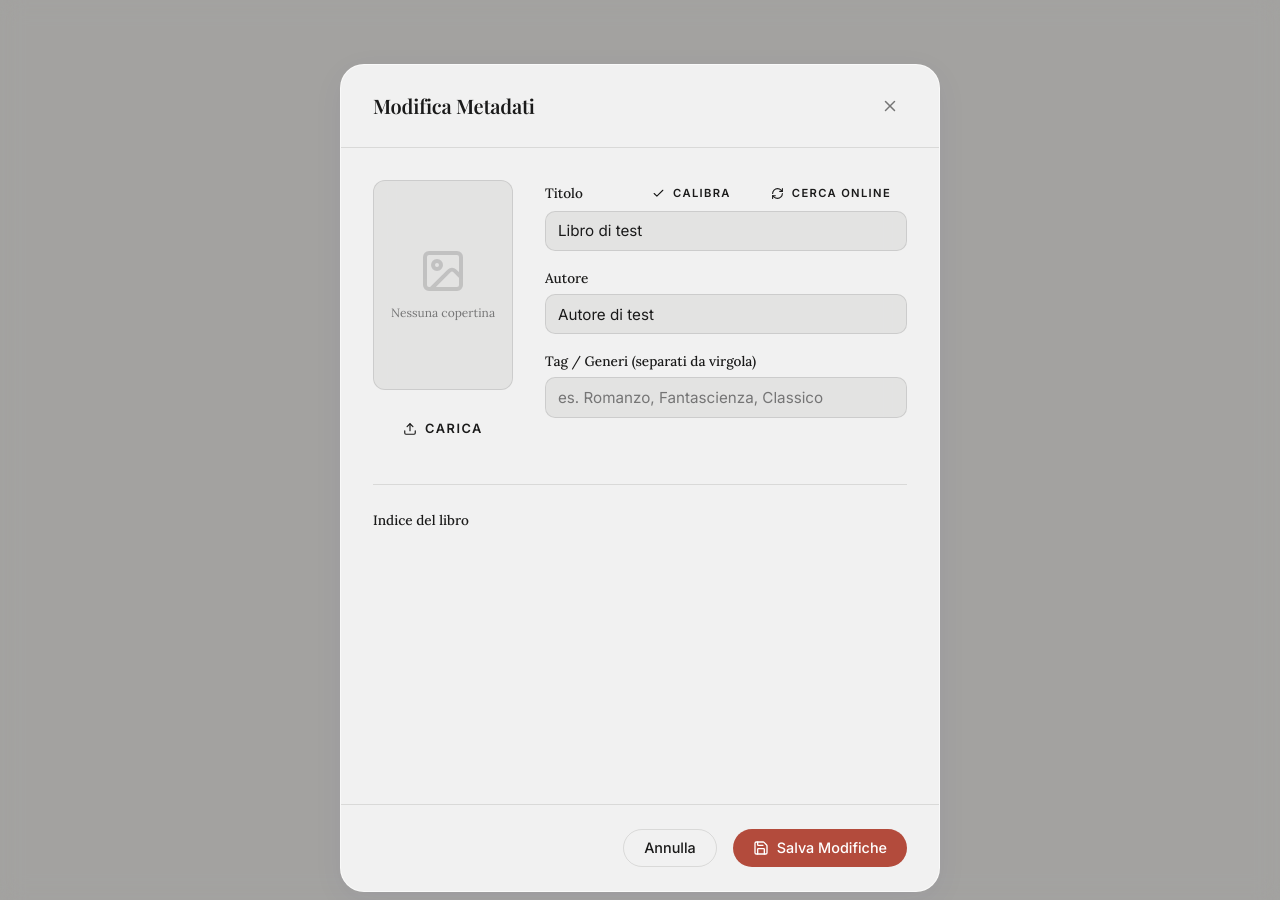
it: EditMetadataModal TOC tools › applies automatic calibration results to metadata and toc preview
The width and height of the screenshot is (1280, 900).
Step 1. Click the button "Calibra" → (692, 193), box [636,180,747,207]
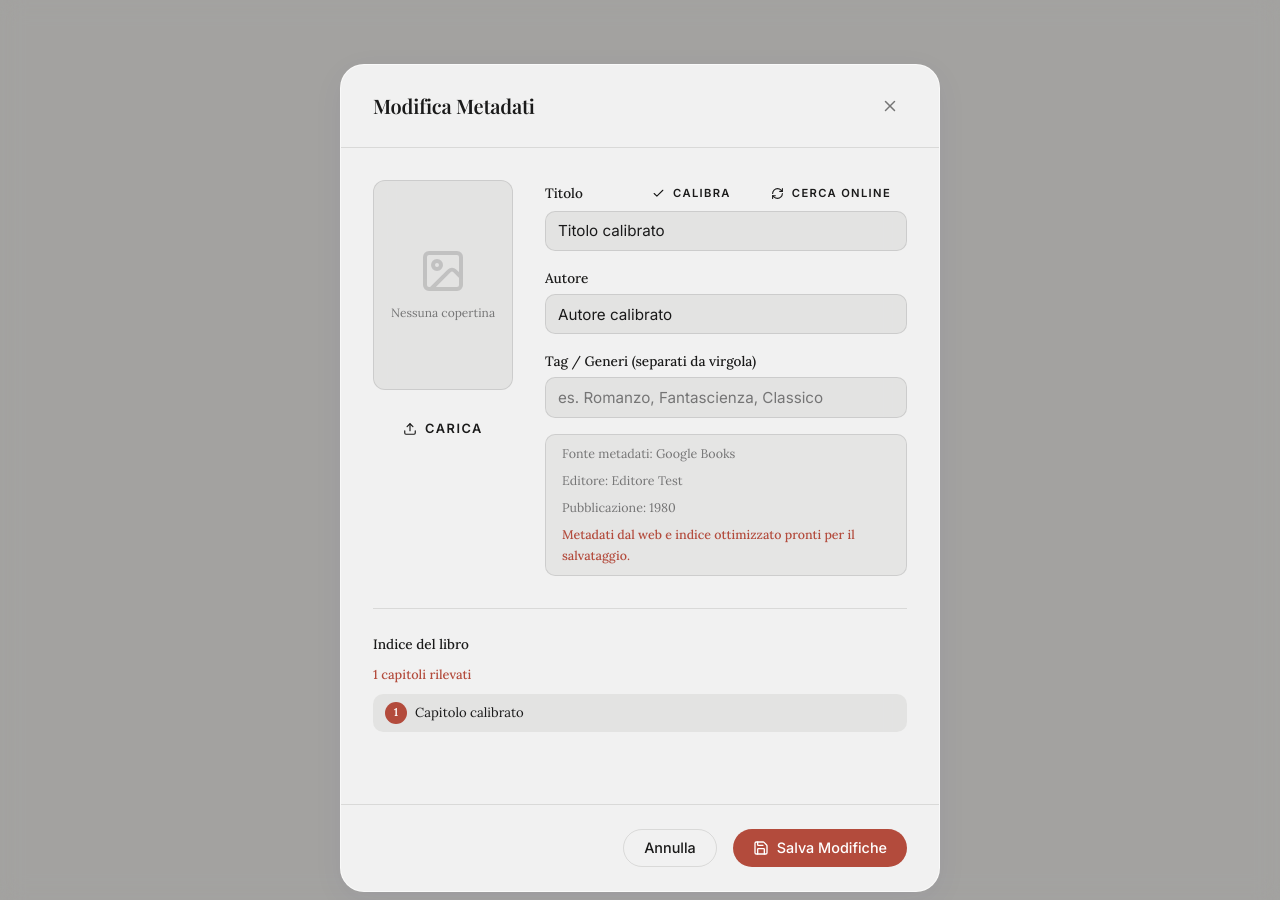
Result: the field showing "Titolo calibrato" is shown at [545,211,907,251]
Result: the text "Fonte metadati: Google Books" is shown at [562,445,735,461]
Result: the text "Editore: Editore Test" is shown at [562,472,683,488]
